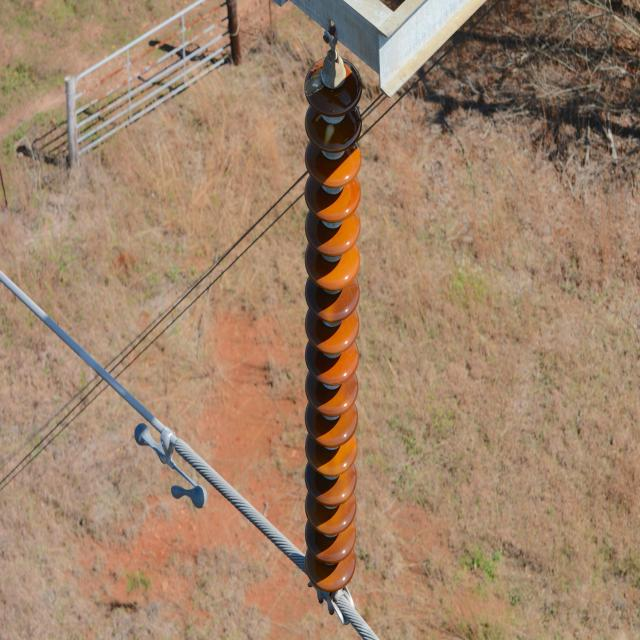insulator: (303, 60, 359, 591)
